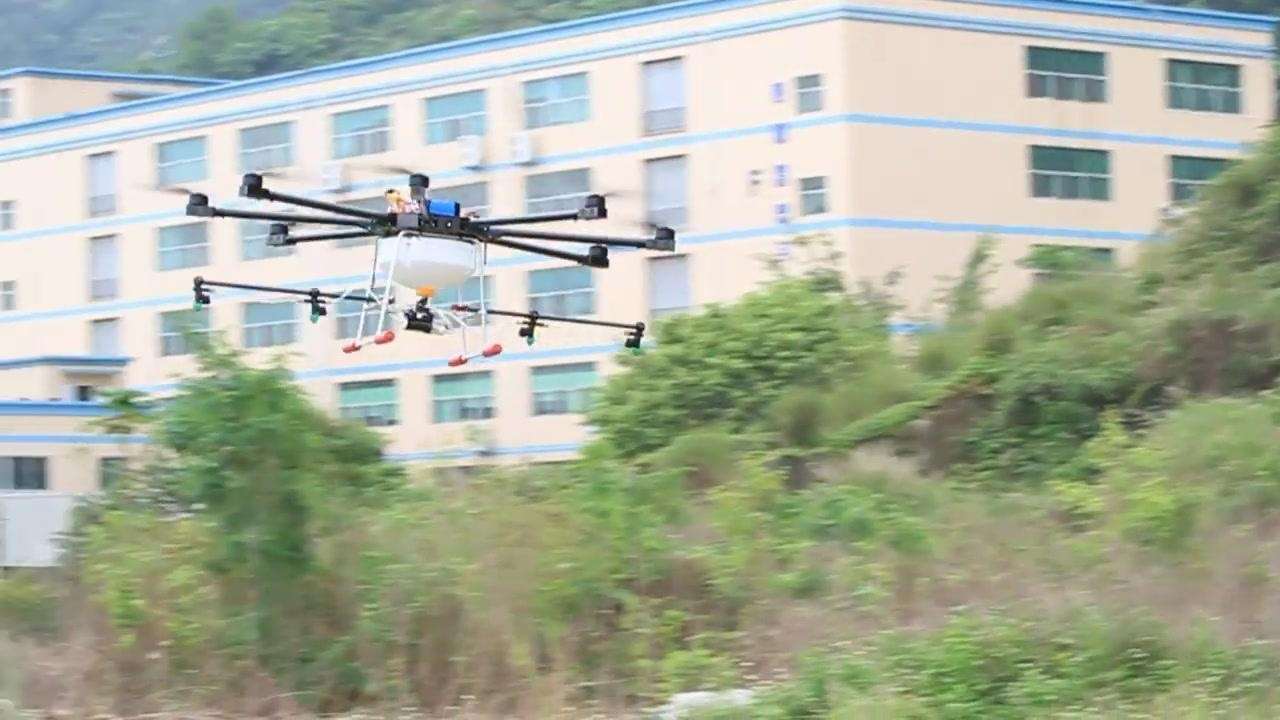UAV: (187, 174, 677, 367)
